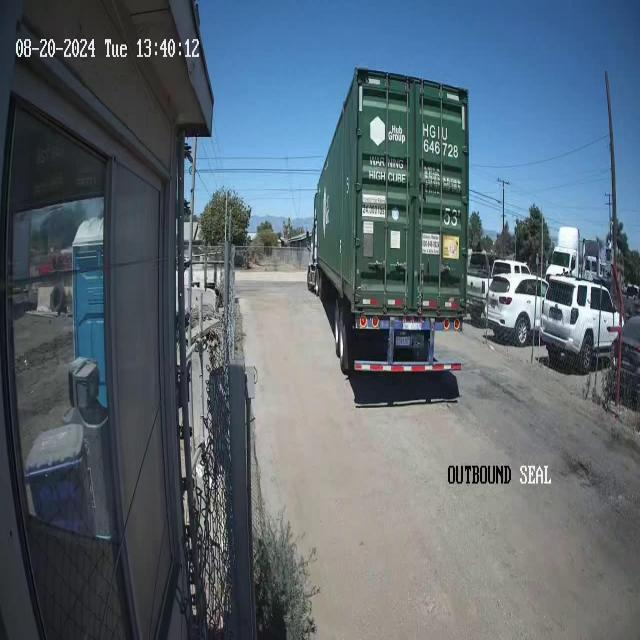TRUCK_CONTAINER: (308, 65, 470, 379)
